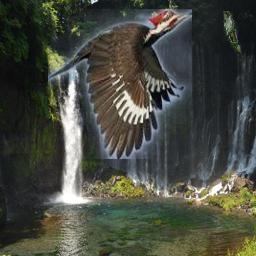Cuckoo: (223, 11, 243, 62)
Woodpecker: (48, 9, 192, 159)
